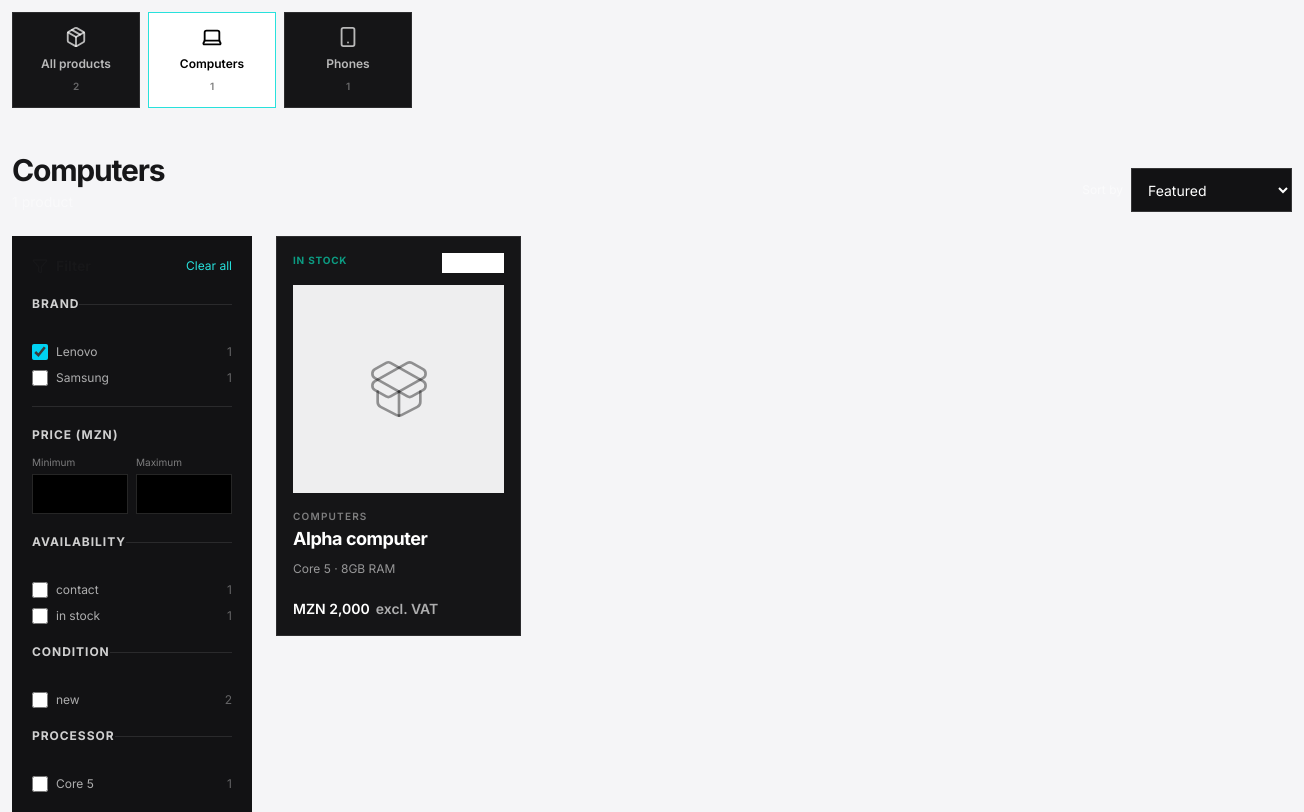
Test: CatalogBrowser › filters from the URL and clears all filters
This screenshot has width=1304, height=812.
Expected: the link named "View Alpha computer details" is shown, [277,237,520,635]
Click the button "Clear all" at (209, 266), box [186,258,232,274]
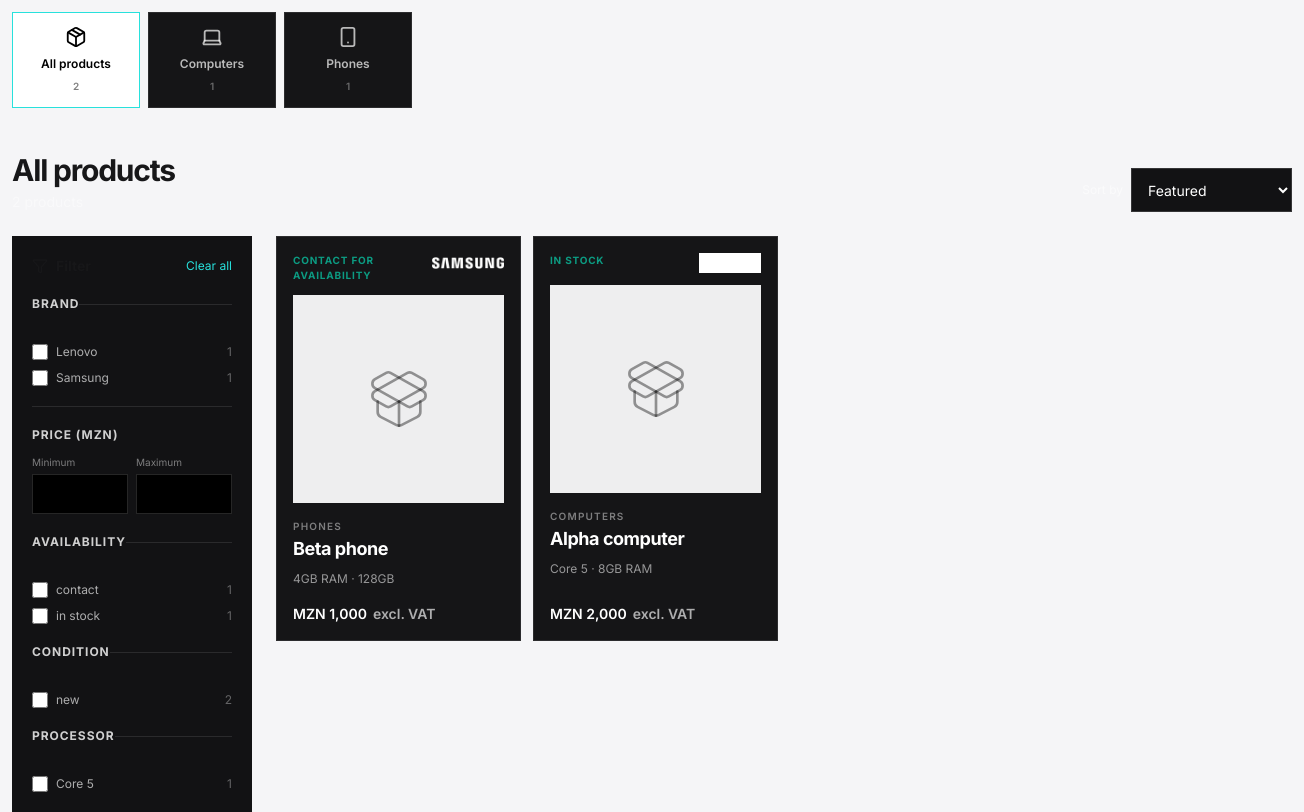
Expected: the link named "View Beta phone details" is shown, [277,237,520,640]
